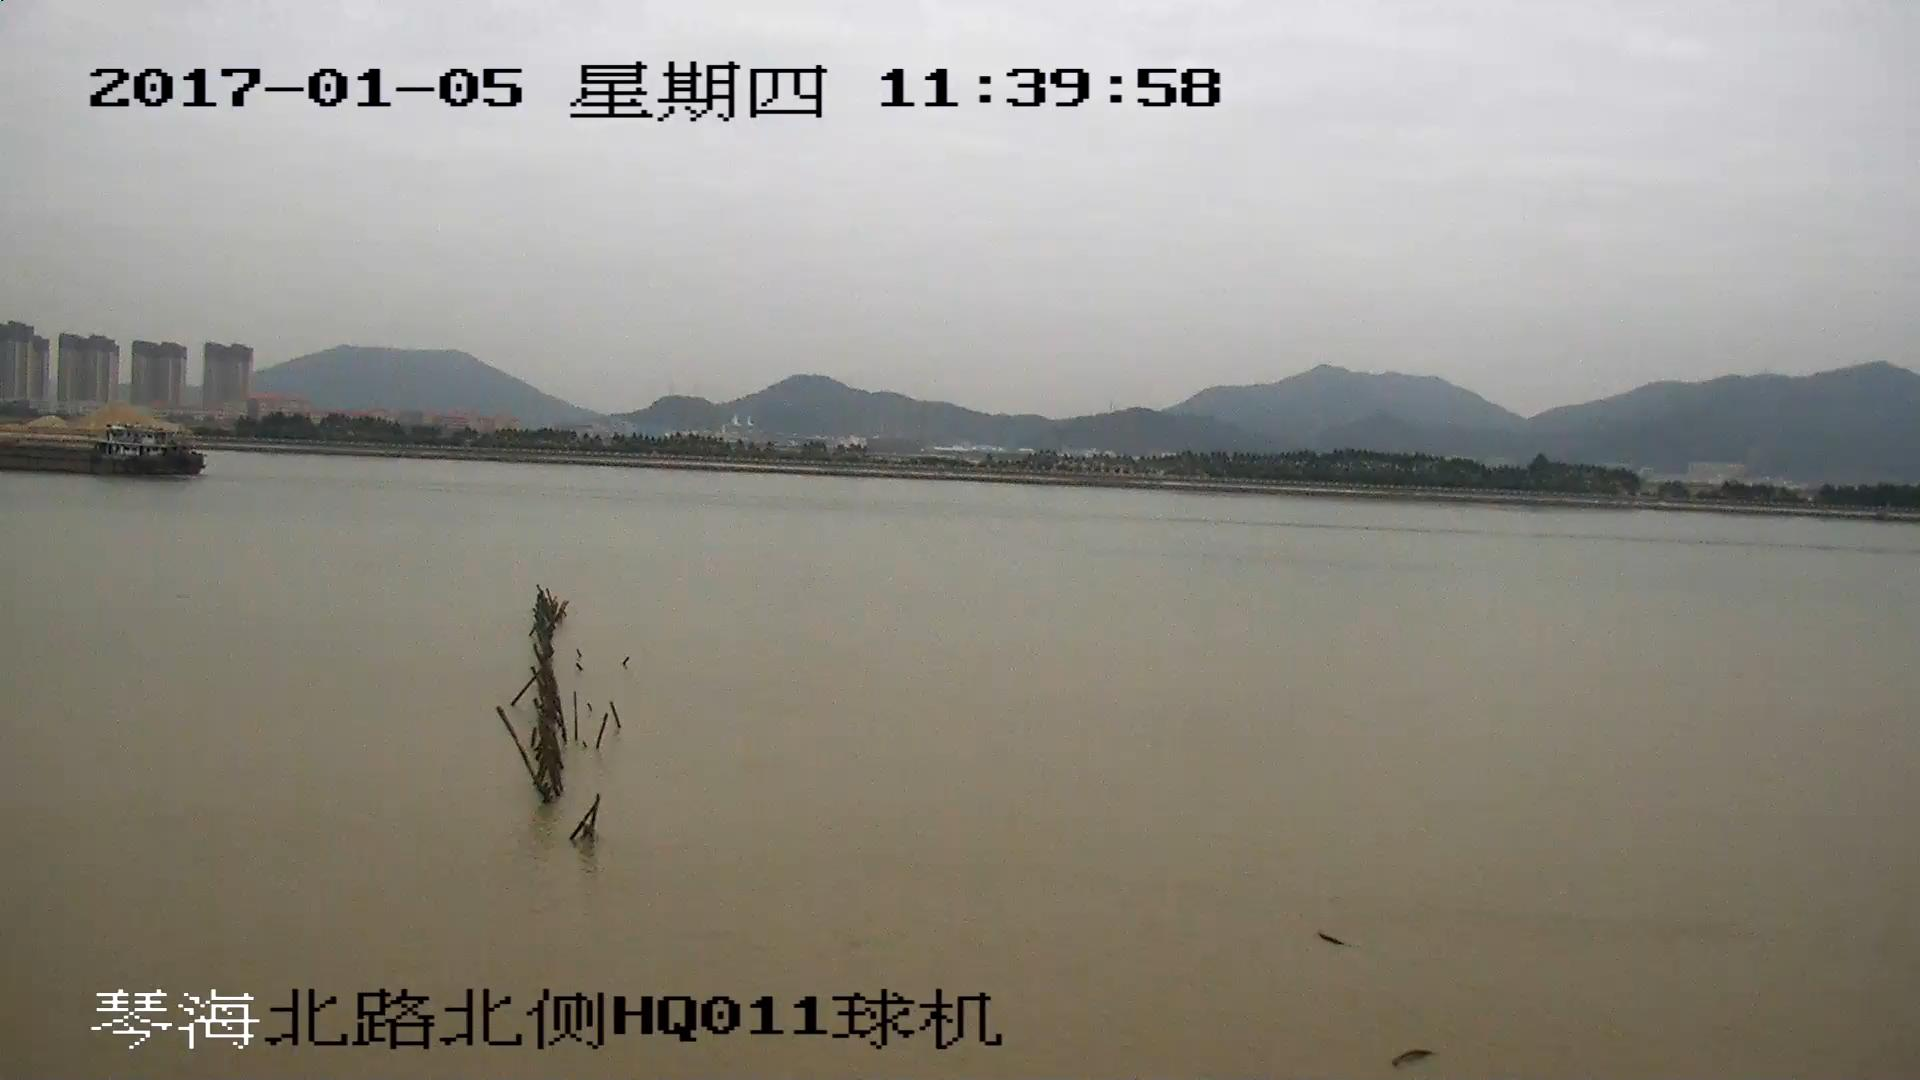bulk cargo carrier: (1, 430, 207, 477)
